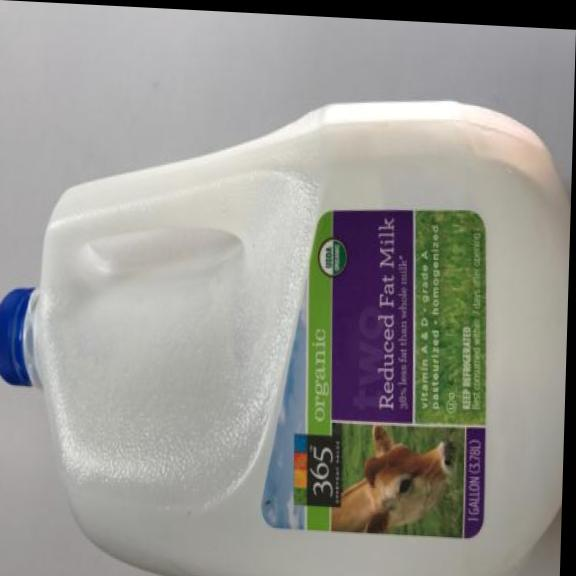Plastik: (0, 72, 574, 576)
